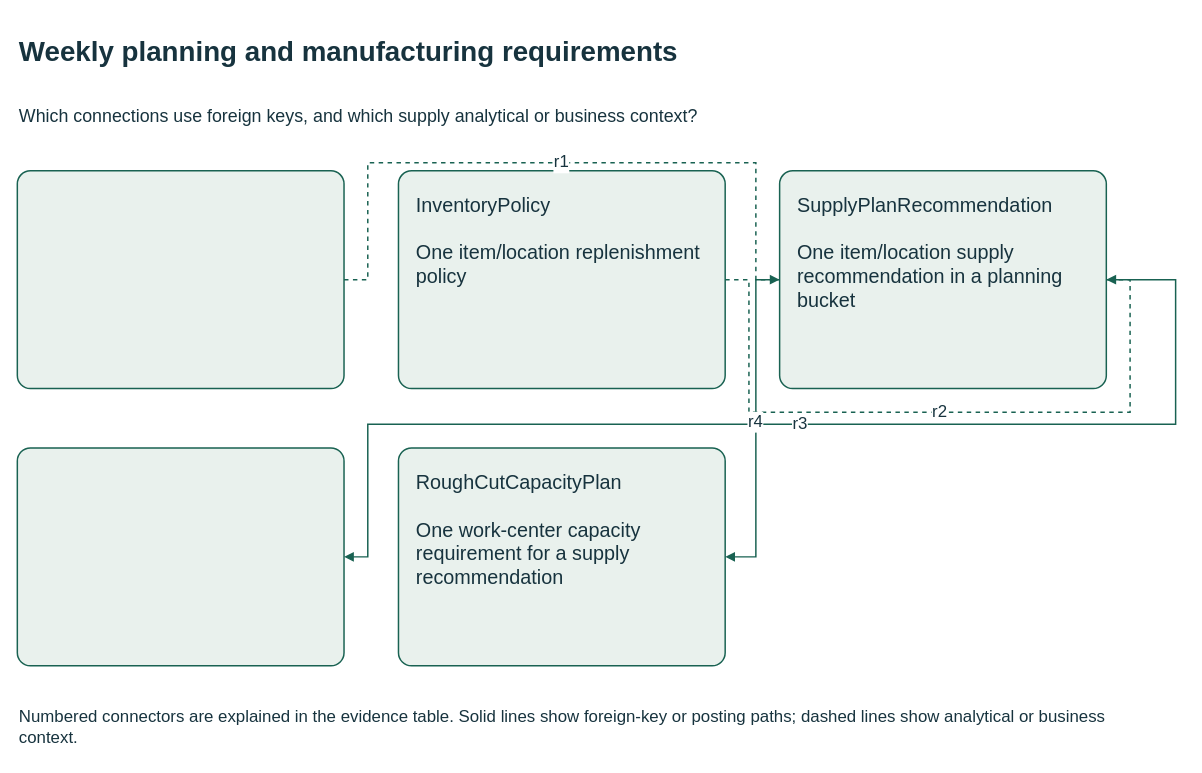
This 1202x773 diagram has some shape labels left out. The shapes that lost their labels are listed below. From the top down, each one's box as (x1, y1, x2, y2) in pixels, then its label:
(16, 170, 344, 389): DemandForecast One item/location forecast for a weekly bucket
(16, 447, 344, 666): MaterialRequirementPlan One component requirement for a supply recommendation
